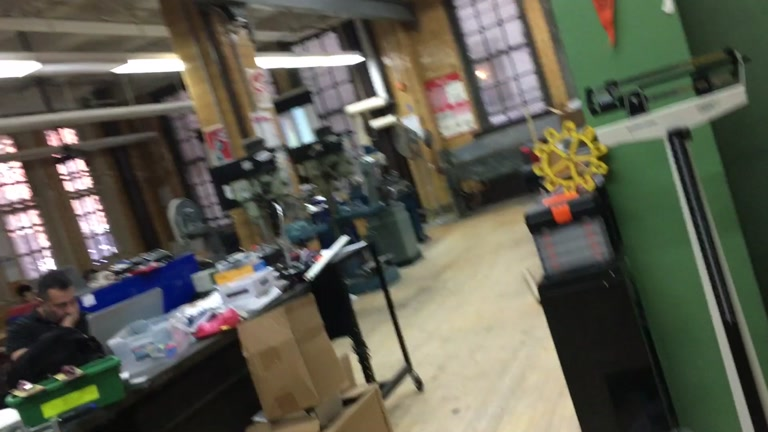gear: (531, 120, 610, 199)
